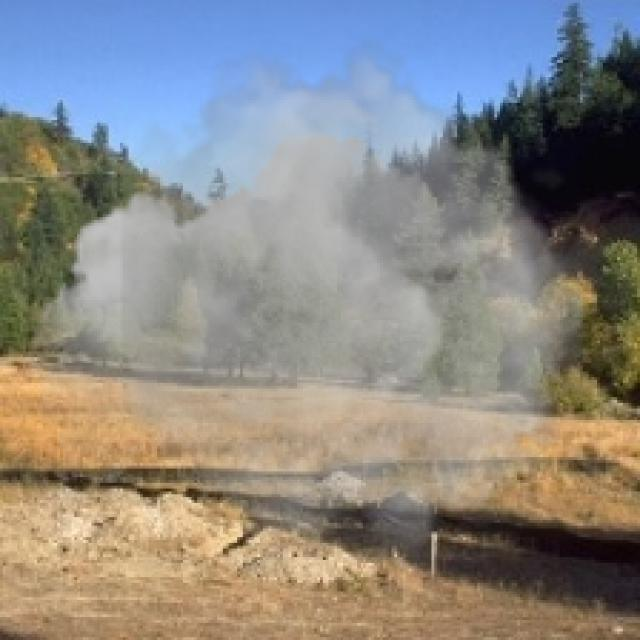smoke: (28, 34, 583, 572)
